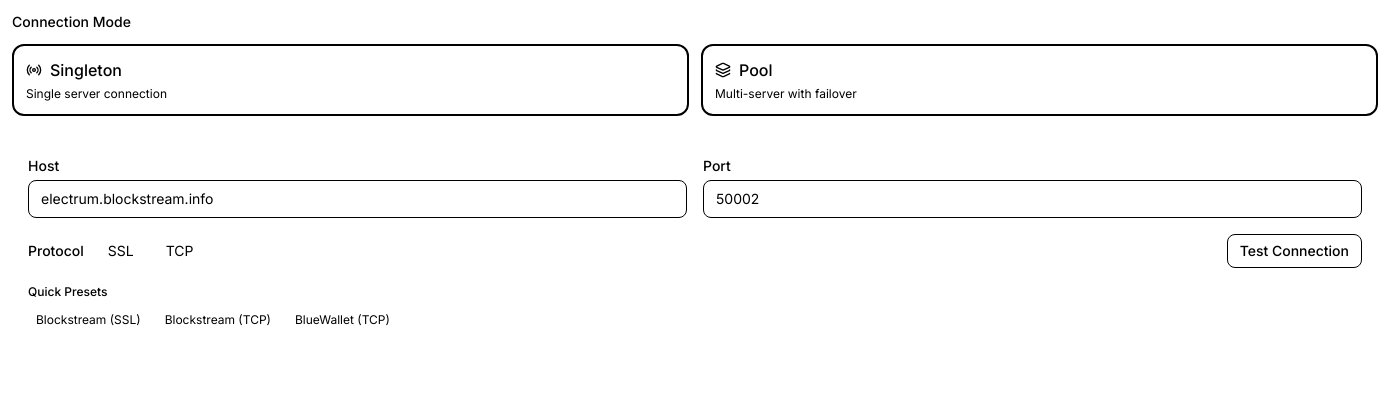
Scenario: NetworkConnectionCard › singleton mode › shows success message after successful test
Step 1. Click the button "Test Connection" → [1294, 251], box [1227, 234, 1362, 268]
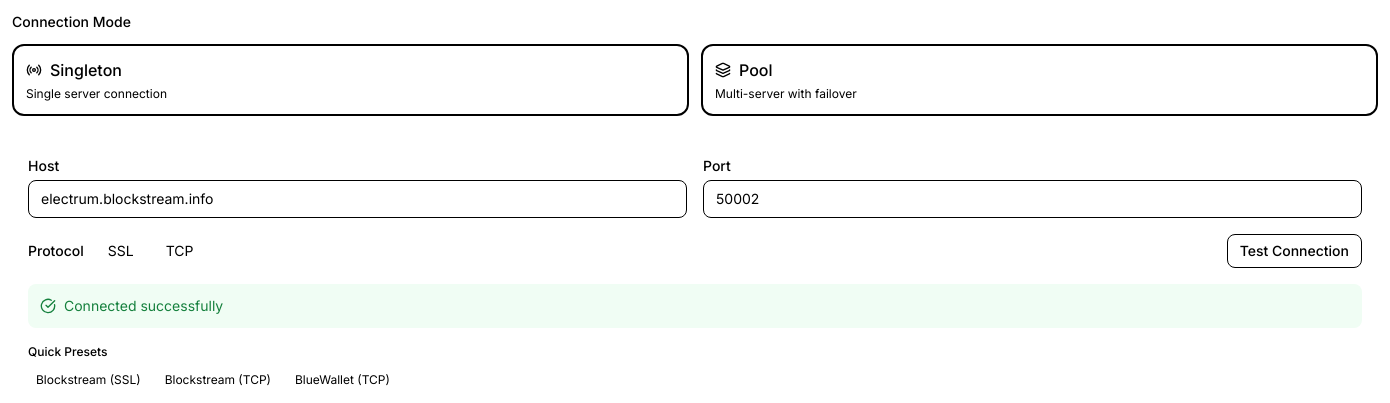
expect the text "Connected successfully" is shown: met, box [64, 296, 223, 316]
